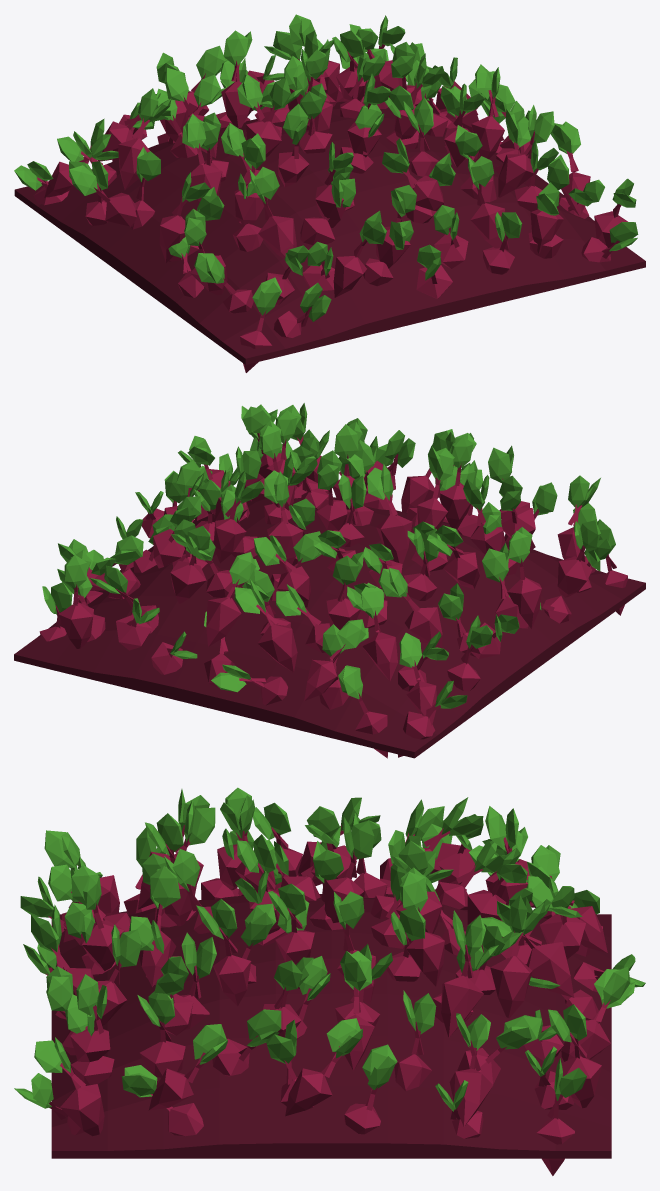
Rendered from Pile_Beet.fbx.
3 renders of one model, top to bottom at view 1: azimuth 30°, elevation 25°; view 2: azimuth 150°, elevation 25°; view 3: azimuth 270°, elevation 25°, orthographic. The views are drawn at different scales.
Parts seen in each view (by area): view 1: Pile_Beet; view 2: Pile_Beet; view 3: Pile_Beet.
Boxes of the visible parts, box(x1,y1,x2,y2) form: Pile_Beet: box(14, 14, 645, 372); Pile_Beet: box(14, 403, 645, 758); Pile_Beet: box(14, 787, 645, 1175).
Bounding box in the file's own units: 1.11 × 0.4851 × 1.13.
